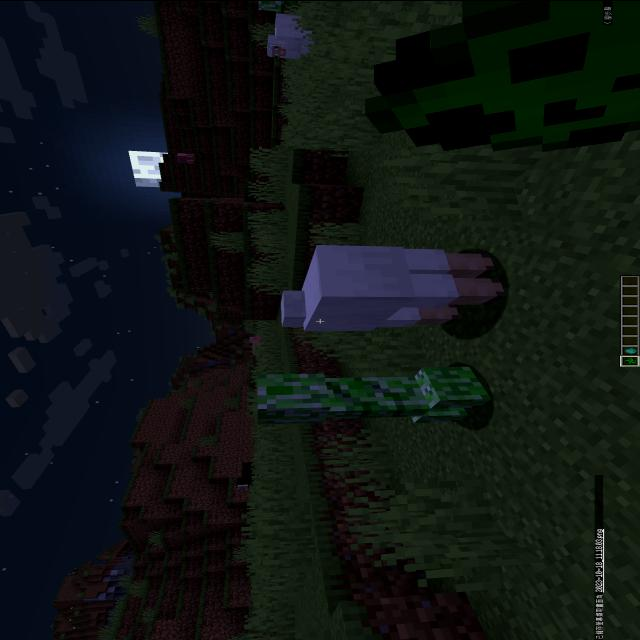Creeper: (248, 362, 494, 428)
pig: (168, 148, 202, 168), (244, 333, 270, 355)
